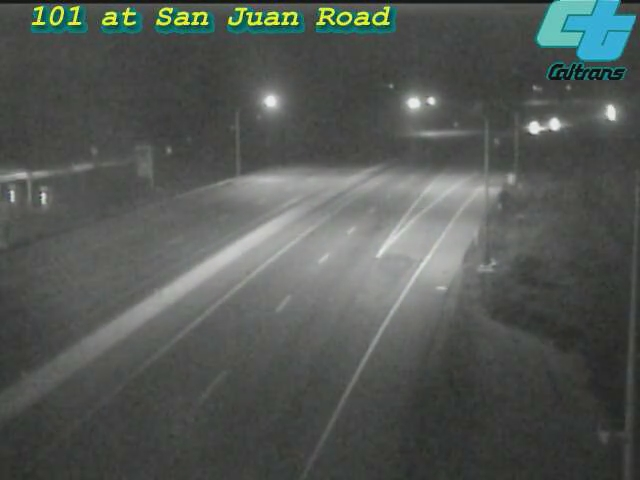vehicle: (530, 100, 580, 150), (507, 103, 557, 153), (585, 88, 635, 138)
